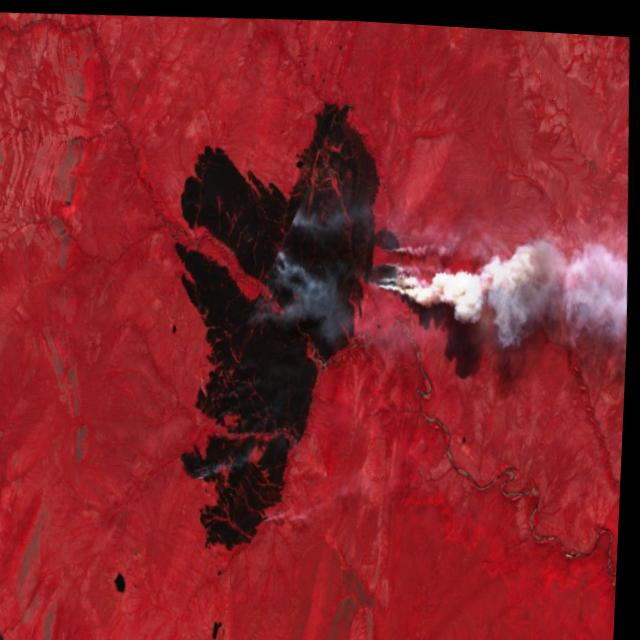fire: (362, 203, 418, 305)
